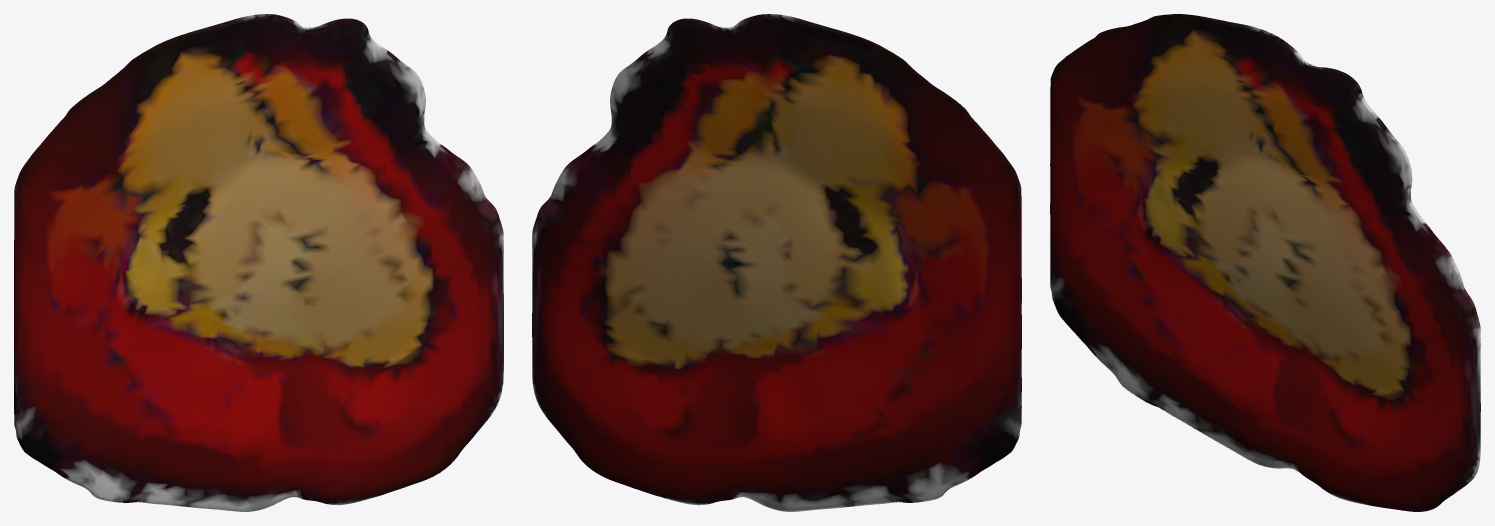
Rendered from haggis.glb.
The picture shows the model from 3 angles, left to right: view 1: azimuth 30°, elevation 25°; view 2: azimuth 150°, elevation 25°; view 3: azimuth 330°, elevation 25°; orthographic projection. The views are drawn at different scales.
Parts seen in each view (by area): view 1: geometry_0; view 2: geometry_0; view 3: geometry_0.
Part boxes in pixels (left/top/right/bottom): geometry_0: left=14, top=14, right=503, bottom=511; geometry_0: left=532, top=14, right=1021, bottom=511; geometry_0: left=1050, top=14, right=1480, bottom=511.
Size of the model in its own units: 0.5625 by 0.563 by 0.0245.
